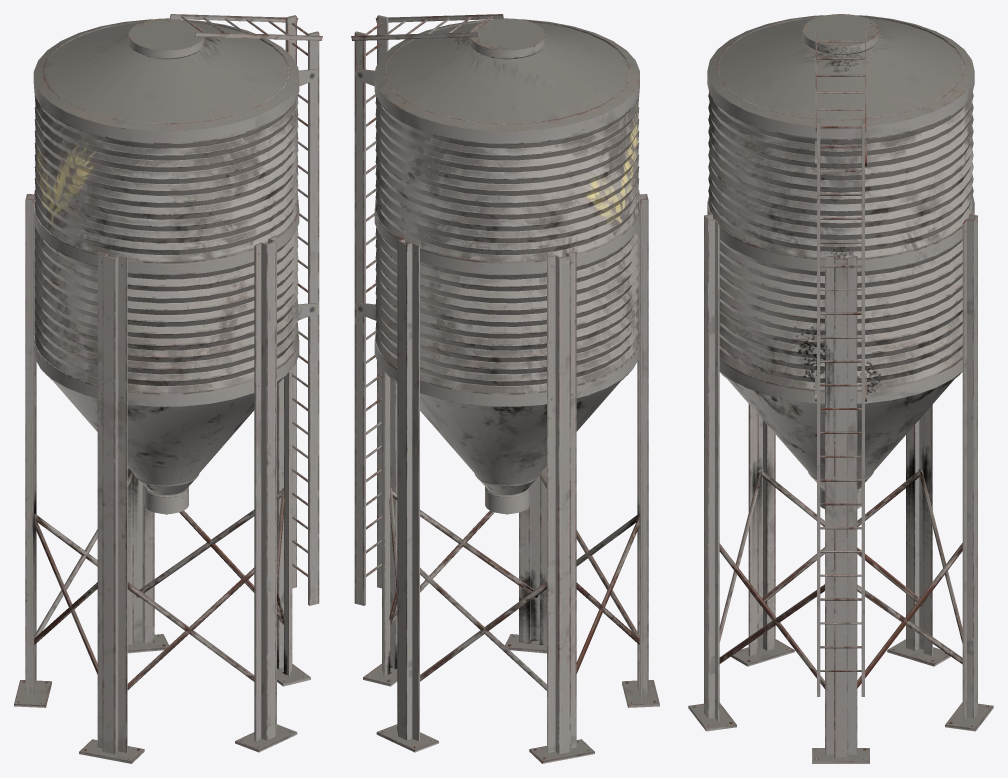
Rendered from grain_bin.glb.
3 renders of one model, left to right at view 1: azimuth 30°, elevation 25°; view 2: azimuth 150°, elevation 25°; view 3: azimuth 270°, elevation 25°, orthographic.
Parts seen in each view (by area): view 1: Object_6; view 2: Object_6; view 3: Object_6.
Boxes of the visible parts, box(x1,y1,x2,y2) form: Object_6: box(14, 14, 322, 763); Object_6: box(351, 14, 659, 763); Object_6: box(688, 14, 993, 763).
Bounding box in the file's own units: 3.28 × 8 × 3.27.
1 material, 1 textured.
